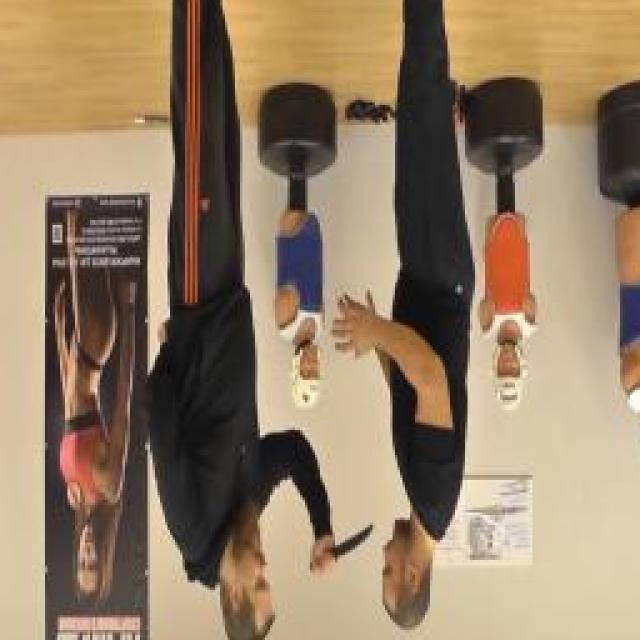knife: (309, 518, 380, 578)
